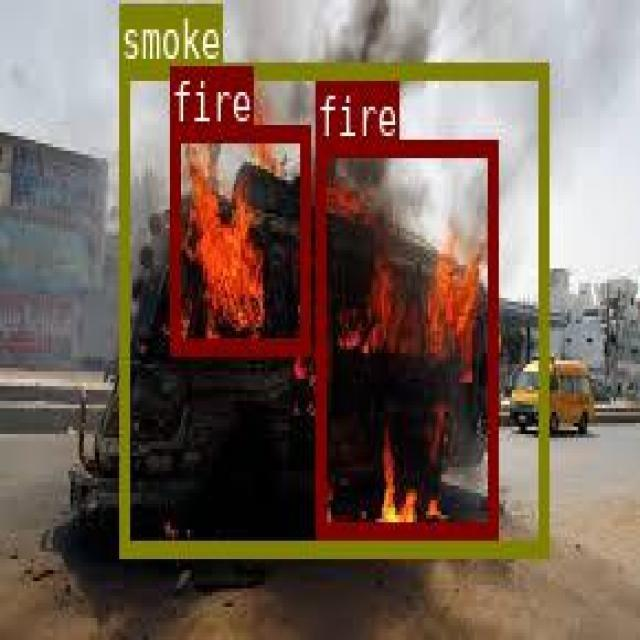fire: (316, 137, 496, 534), (169, 123, 308, 353)
smoke: (117, 61, 546, 555)
